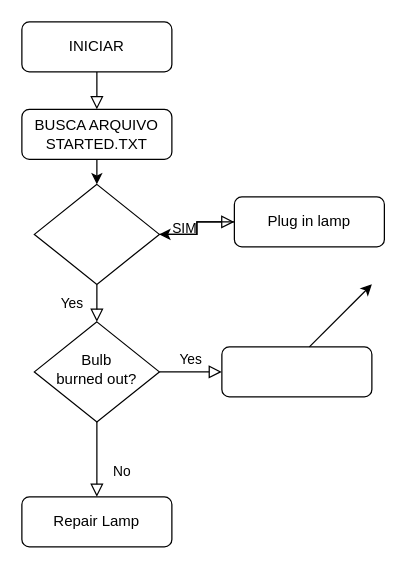
This 406x569 diagram has some shape labels left out. Here are the shapes that lost their labels. From the top down, the box of each, then its label:
(33, 183, 159, 284): JÁ INICIADA?
(221, 346, 372, 397): Replace Bulb
